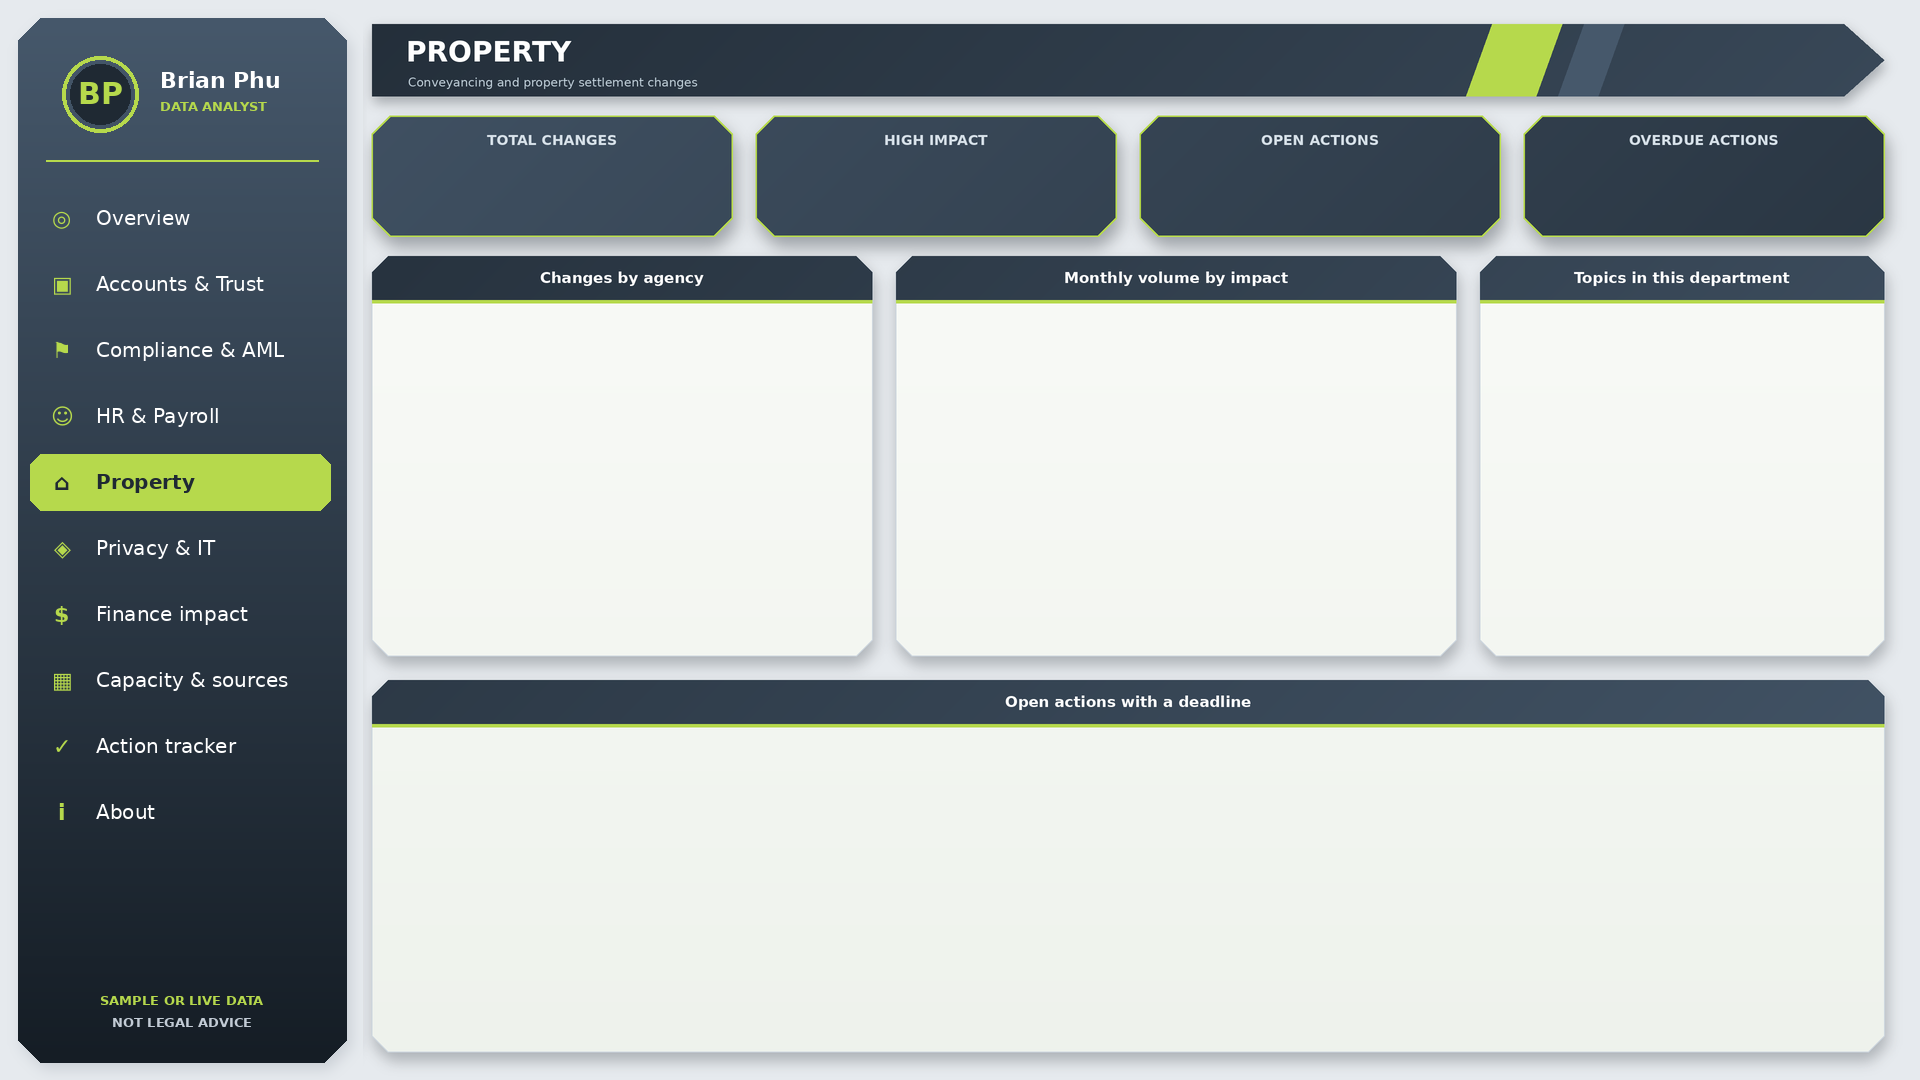

What the dashboard file says about the page in this screenshot:
{"tool":"powerbi","page":{"name":"Accounts & Trust","canvas":[1920,1080],"ordinal":1},"visuals":[{"type":"cardVisual","fields":{"Data":["changes.Total Changes"]},"box":[382,146,340,84],"z":1200},{"type":"cardVisual","fields":{"Data":["changes.High Impact"]},"box":[766,146,340,84],"z":1210},{"type":"cardVisual","fields":{"Data":["changes.Open Actions"]},"box":[1150,146,340,84],"z":1220},{"type":"cardVisual","fields":{"Data":["changes.Overdue Actions"]},"box":[1534,146,340,84],"z":1230},{"type":"lineClusteredColumnComboChart","fields":{"Category":["changes.source"],"Y":["changes.Total Changes"],"Y2":["changes.Action Rate"]},"box":[384,308,476,336],"z":1240},{"type":"columnChart","fields":{"Category":["dim_date.year_month"],"Series":["changes.impact"],"Y":["changes.Total Changes"]},"box":[908,308,536,336],"z":1250},{"type":"barChart","fields":{"Category":["change_topics.topic"],"Y":["changes.Total Changes"]},"box":[1492,308,380,336],"z":1260},{"type":"tableEx","fields":{"Values":["changes.title","changes.source","changes.impact","changes.deadline","changes.Days To Deadline","changes.status"]},"box":[384,732,1488,308],"z":1270},{"type":"slicer","title":"Status","fields":{"Values":["changes.status"]},"box":[1120,26,180,62],"z":1280},{"type":"slicer","title":"Year","fields":{"Values":["dim_date.year"]},"box":[1316,26,150,62],"z":1290},{"type":"actionButton","box":[30,190,300,56],"z":9000},{"type":"actionButton","box":[30,256,300,56],"z":9001},{"type":"actionButton","box":[30,322,300,56],"z":9002},{"type":"actionButton","box":[30,388,300,56],"z":9003},{"type":"actionButton","box":[30,454,300,56],"z":9004},{"type":"actionButton","box":[30,520,300,56],"z":9005},{"type":"actionButton","box":[30,586,300,56],"z":9006},{"type":"actionButton","box":[30,652,300,56],"z":9007}]}

Visuals, with their boxes in screenshot pixels (x1, y1, x2, y2), scaled from the page's 1920x1080 canvas onto the 1920x1080 screenshot:
cardVisual - changes.Total Changes: select_region(382, 146, 722, 230)
cardVisual - changes.High Impact: select_region(766, 146, 1106, 230)
cardVisual - changes.Open Actions: select_region(1150, 146, 1490, 230)
cardVisual - changes.Overdue Actions: select_region(1534, 146, 1874, 230)
lineClusteredColumnComboChart - changes.source x changes.Total Changes: select_region(384, 308, 860, 644)
columnChart - dim_date.year_month x changes.impact: select_region(908, 308, 1444, 644)
barChart - change_topics.topic x changes.Total Changes: select_region(1492, 308, 1872, 644)
tableEx - changes.title x changes.source: select_region(384, 732, 1872, 1040)
"Status" slicer: select_region(1120, 26, 1300, 88)
"Year" slicer: select_region(1316, 26, 1466, 88)
actionButton: select_region(30, 190, 330, 246)
actionButton: select_region(30, 256, 330, 312)
actionButton: select_region(30, 322, 330, 378)
actionButton: select_region(30, 388, 330, 444)
actionButton: select_region(30, 454, 330, 510)
actionButton: select_region(30, 520, 330, 576)
actionButton: select_region(30, 586, 330, 642)
actionButton: select_region(30, 652, 330, 708)
